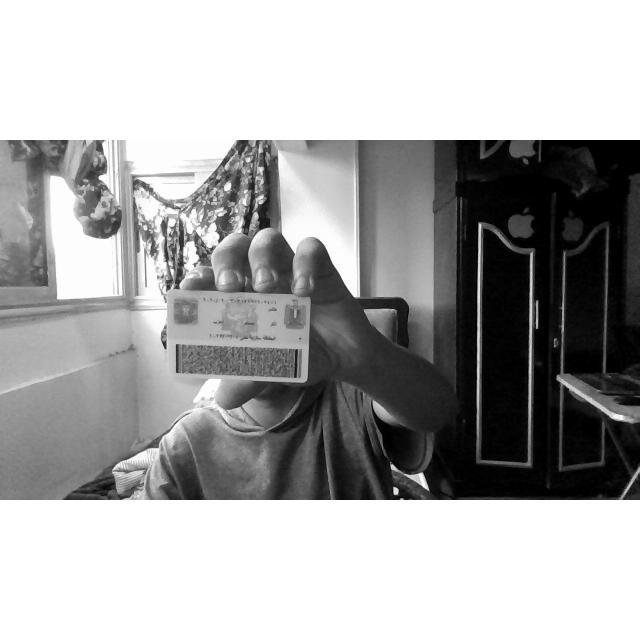back: (167, 289, 312, 383)
